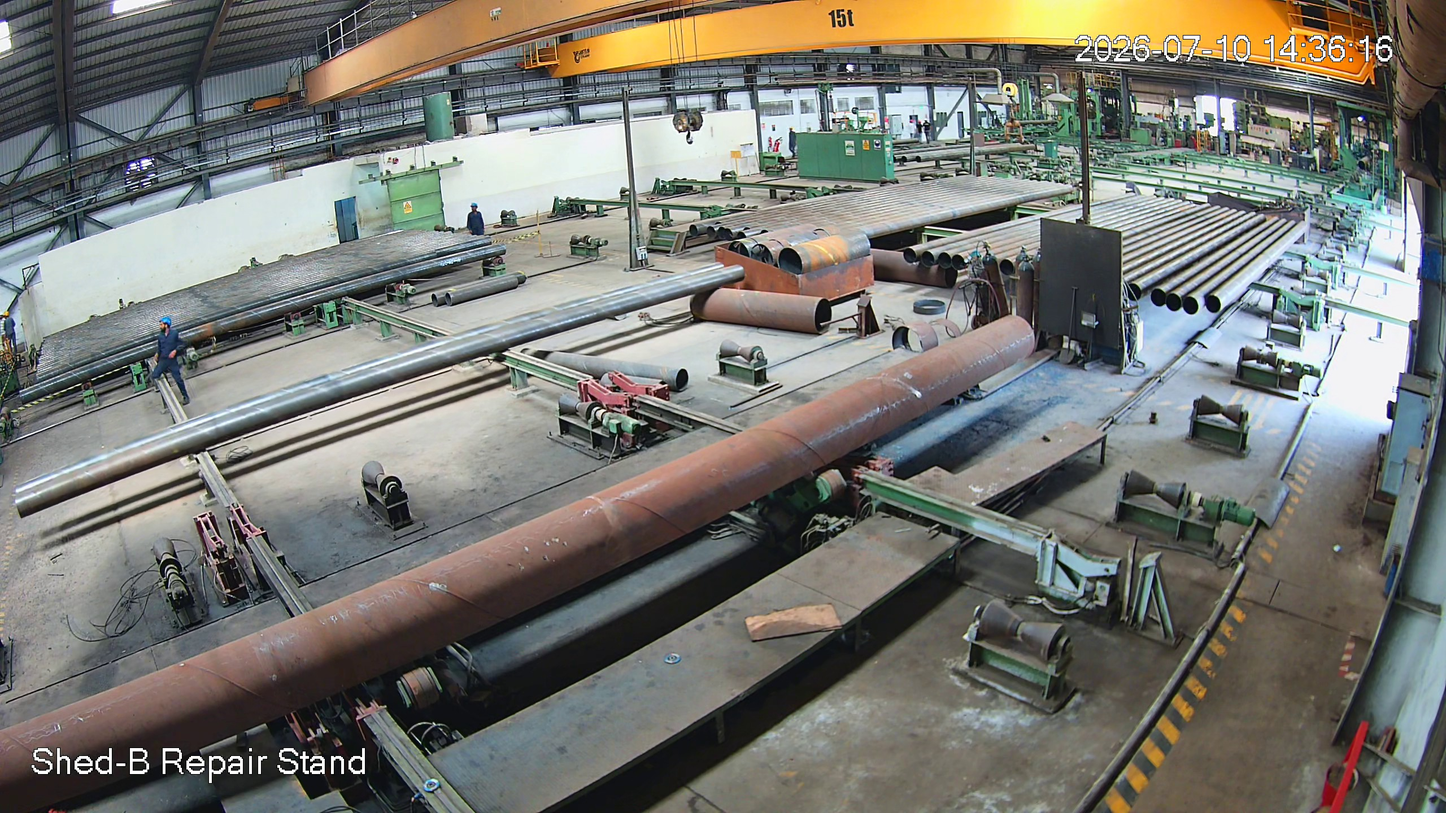Helmet: (158, 316, 185, 347)
Person: (148, 322, 190, 403)
